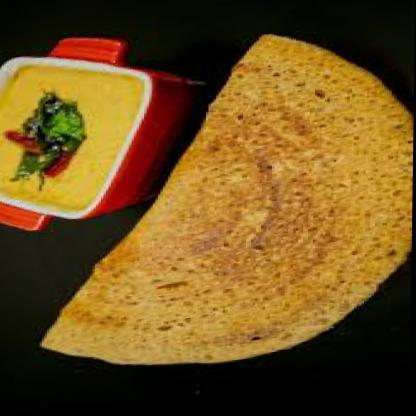dosa: (42, 28, 415, 380)
